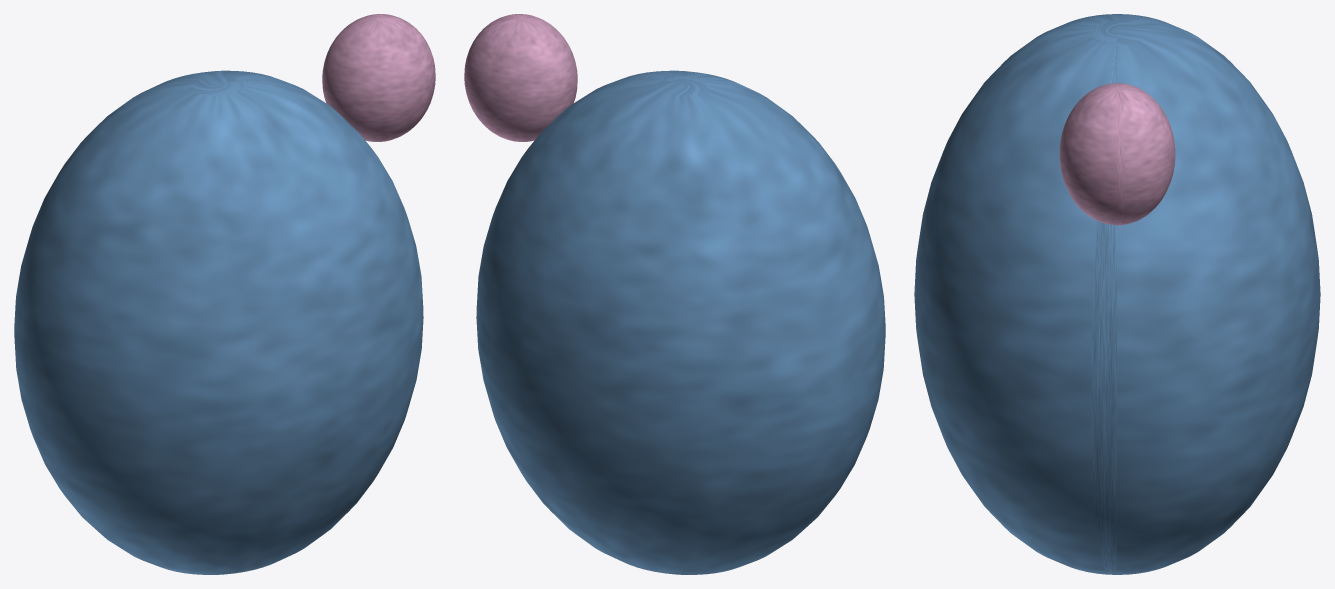
File: complete.glb
3 views of the same model, side by side, from view 1: azimuth 30°, elevation 25°; view 2: azimuth 150°, elevation 25°; view 3: azimuth 270°, elevation 25° (orthographic). The views are drawn at different scales.
Visible parts, largest first — view 1: parede_mesh, broto_mesh; view 2: parede_mesh, broto_mesh; view 3: parede_mesh, broto_mesh.
Part boxes in pixels (x1,y1,x2,y2): parede_mesh: [14, 70, 423, 574]; broto_mesh: [322, 14, 435, 141]; parede_mesh: [476, 70, 885, 574]; broto_mesh: [464, 14, 577, 141]; parede_mesh: [914, 14, 1320, 574]; broto_mesh: [1059, 83, 1175, 225].
Size of the model in its own units: 1.72 by 2.11 by 1.4.
7 materials, 7 textured.
